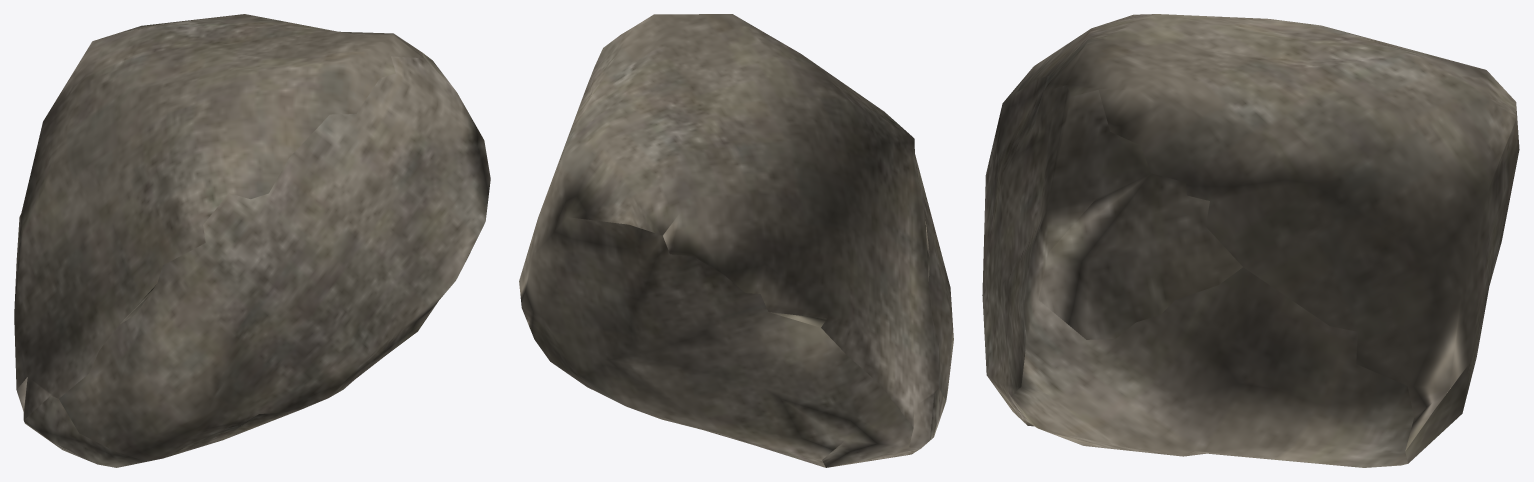
The model's file is rock_small_2.glb.
3 views of the same model, side by side, from view 1: azimuth 30°, elevation 25°; view 2: azimuth 150°, elevation 25°; view 3: azimuth 270°, elevation 25° (orthographic). The views are drawn at different scales.
Parts seen in each view (by area): view 1: SM_Small_Rock_2_LOD3; view 2: SM_Small_Rock_2_LOD3; view 3: SM_Small_Rock_2_LOD3.
Boxes of the visible parts, bbox=[...] form: SM_Small_Rock_2_LOD3: bbox=[14, 14, 490, 467]; SM_Small_Rock_2_LOD3: bbox=[519, 14, 953, 467]; SM_Small_Rock_2_LOD3: bbox=[982, 14, 1519, 467].
Bounding box in the file's own units: 1.7 × 1.49 × 1.49.
Materials: 1 (1 with a texture image).
